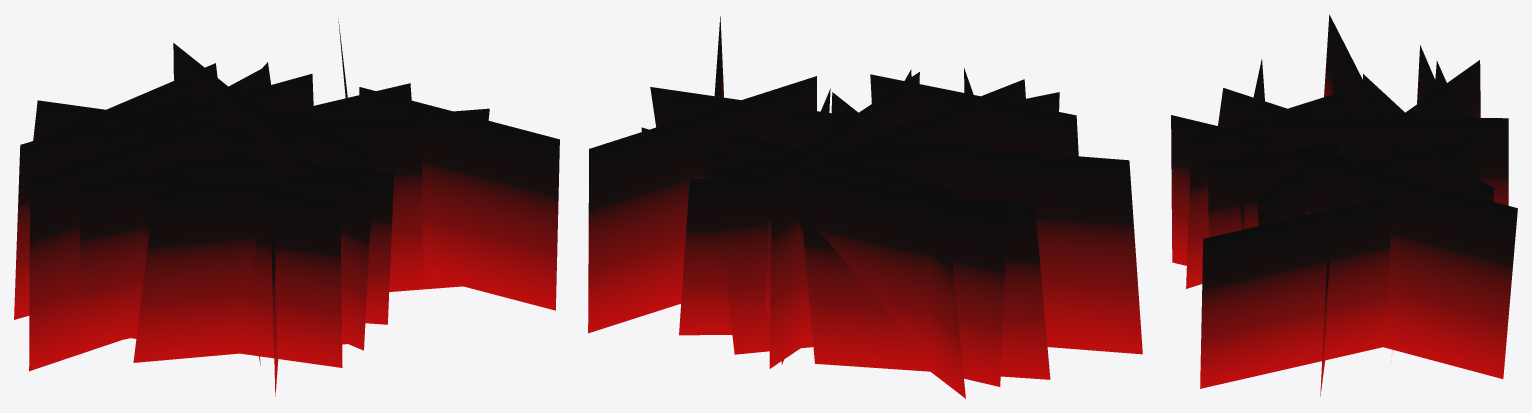
The model's file is grassNew.obj.
3 views of the same model, side by side, from view 1: azimuth 30°, elevation 25°; view 2: azimuth 150°, elevation 25°; view 3: azimuth 270°, elevation 25° (orthographic). The views are drawn at different scales.
Parts seen in each view (by area): view 1: 克隆_1; view 2: 克隆_1; view 3: 克隆_1.
Boxes of the visible parts, box(x1,y1,x2,y2) form: 克隆_1: box(14, 18, 559, 396); 克隆_1: box(588, 16, 1142, 398); 克隆_1: box(1171, 14, 1517, 396).
Bounding box in the file's own units: 0.8907 × 0.391 × 0.6323.
